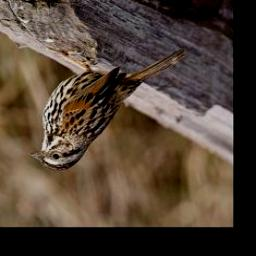Sparrow: (28, 45, 187, 172)
